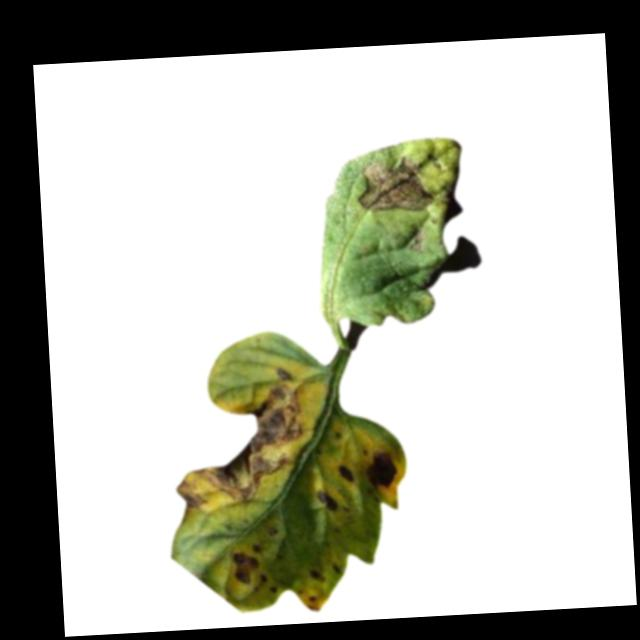Early_blight: (171, 362, 312, 514), (359, 155, 432, 212), (362, 448, 399, 496), (226, 549, 256, 587), (314, 488, 337, 516), (336, 461, 357, 488), (412, 225, 430, 254)
